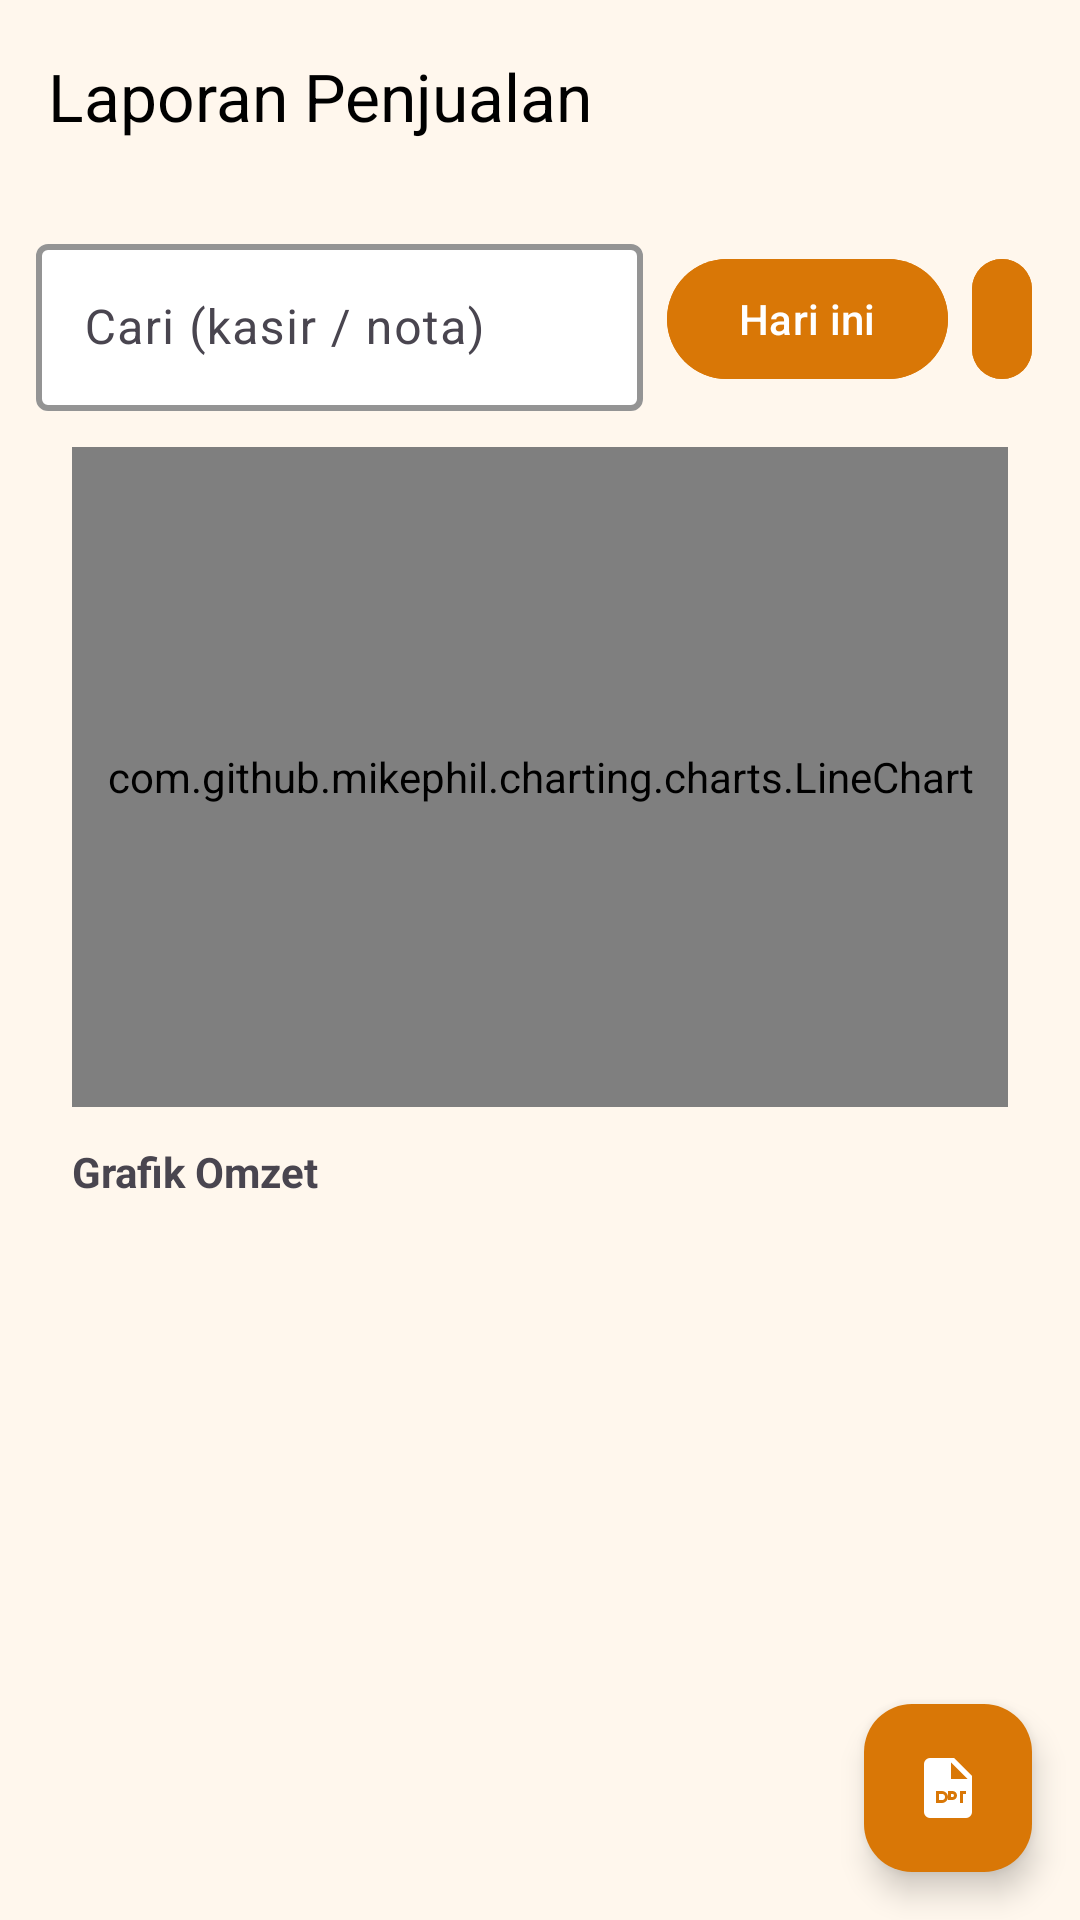

Screen size 1080 x 1920. Icon name, then its box in pixels as (x1, y1, x2, y2):
Export PDF: (864, 1704, 1032, 1872)
